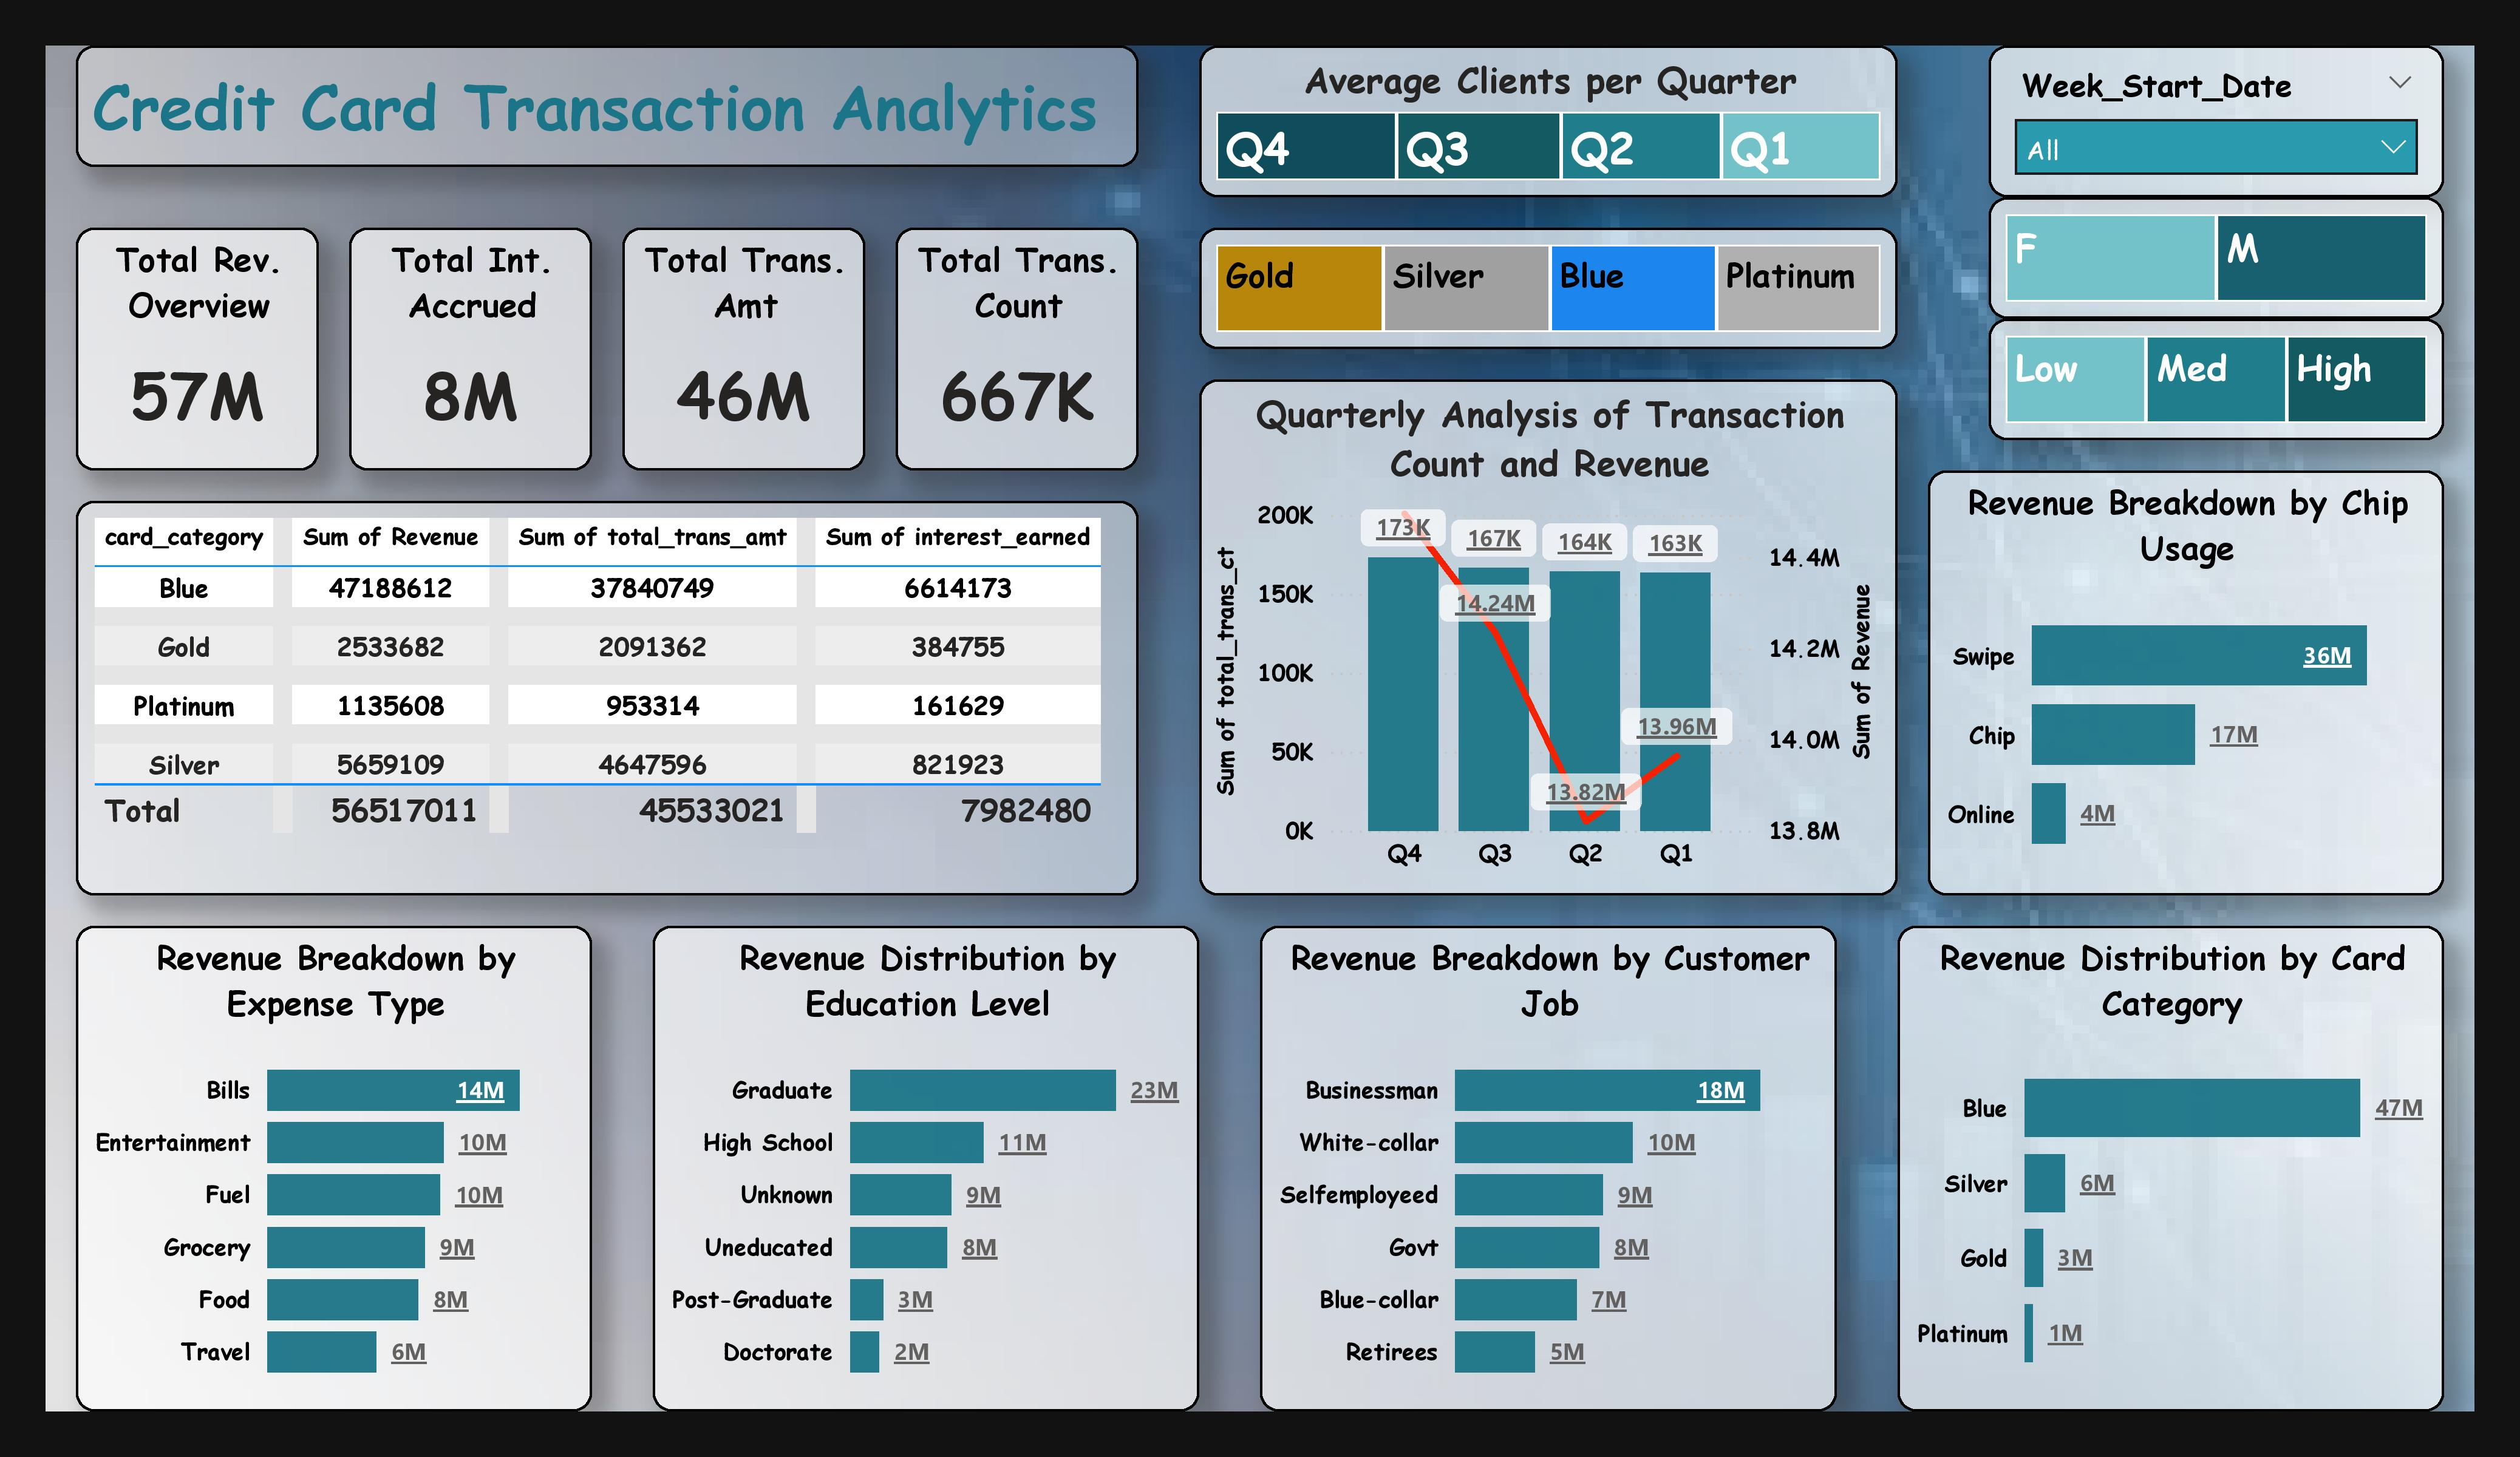

This screenshot's page, from the dashboard's own definition file:
{"tool":"powerbi","page":{"name":"Credit_Card Transaction","canvas":[1280,720],"ordinal":0},"visuals":[{"type":"textbox","box":[16,0,560,64],"z":0},{"type":"lineStackedColumnComboChart","title":"Quarterly Analysis of Transaction Count and Revenue","fields":{"Category":["public cc_detail.qtr"],"Y":["Sum(public cc_detail.total_trans_ct)"],"Y2":["Sum(public cc_detail.Revenue)"]},"box":[608,176,368,272],"z":1000},{"type":"barChart","title":"Revenue Breakdown by Expense Type","fields":{"Y":["Sum(public cc_detail.Revenue)"],"Category":["public cc_detail.exp_type"]},"box":[16,464,272,256],"z":2000},{"type":"barChart","title":"Revenue Distribution by Education Level","fields":{"Y":["Sum(public cc_detail.Revenue)"],"Category":["public cust_detail.education_level"]},"box":[320,464,288,256],"z":3000},{"type":"barChart","title":"Revenue Breakdown by Customer Job","fields":{"Y":["Sum(public cc_detail.Revenue)"],"Category":["public cust_detail.customer_job"]},"box":[640,464,304,256],"z":4000},{"type":"barChart","title":"Revenue Distribution by Card Category","fields":{"Y":["Sum(public cc_detail.Revenue)"],"Category":["public cc_detail.card_category"]},"box":[976,464,288,256],"z":5000},{"type":"barChart","title":"Revenue Breakdown by Chip Usage","fields":{"Y":["Sum(public cc_detail.Revenue)"],"Category":["public cc_detail.use_chip"]},"box":[992,224,272,224],"z":6000},{"type":"card","title":"Total Rev. Overview","fields":{"Values":["Sum(public cc_detail.Revenue)","select"]},"box":[16,96,128,128],"z":7000},{"type":"card","title":"Total Int. Accrued","fields":{"Values":["Sum(public cc_detail.interest_earned)"]},"box":[160,96,128,128],"z":8000},{"type":"card","title":"Total Trans. Amt","fields":{"Values":["Sum(public cc_detail.total_trans_amt)"]},"box":[304,96,128,128],"z":9000},{"type":"card","title":"Total Trans. Count","fields":{"Values":["Sum(public cc_detail.total_trans_ct)"]},"box":[448,96,128,128],"z":10000},{"type":"slicer","fields":{"Values":["public cc_detail.week_start_date"]},"box":[1024,0,240,80],"z":11000},{"type":"treemap","title":"Average Clients per Quarter","fields":{"Group":["public cc_detail.qtr"],"Values":["Avg(public cc_detail.client_num)"]},"box":[608,0,368,80],"z":12000},{"type":"treemap","fields":{"Group":["public cust_detail.gender"],"Values":["Avg(public cc_detail.client_num)"]},"box":[1024,80,240,64],"z":13000},{"type":"treemap","fields":{"Values":["Avg(public cc_detail.client_num)"],"Group":["public cc_detail.card_category"]},"box":[608,96,368,64],"z":14000},{"type":"treemap","fields":{"Values":["Avg(public cc_detail.client_num)"],"Group":["public cust_detail.IncomeGroup"]},"box":[1024,144,240,64],"z":15000},{"type":"tableEx","fields":{"Values":["public cc_detail.card_category","Sum(public cc_detail.Revenue)","Sum(public cc_detail.total_trans_amt)","Sum(public cc_detail.interest_earned)"]},"box":[16,240,560,208],"z":16000},{"type":"qnaVisual","box":[576,240,150,208],"z":16001}]}

Visuals, with their boxes on the page's 1280x720 design canvas (x1, y1, x2, y2). These are canvas units, not pixel positions in the 2520x1457 screenshot, which may show the page scaled, cropped or inside an application window:
textbox: 16:0:576:64
"Quarterly Analysis of Transaction Count and Revenue" lineStackedColumnComboChart: 608:176:976:448
"Revenue Breakdown by Expense Type" barChart: 16:464:288:720
"Revenue Distribution by Education Level" barChart: 320:464:608:720
"Revenue Breakdown by Customer Job" barChart: 640:464:944:720
"Revenue Distribution by Card Category" barChart: 976:464:1264:720
"Revenue Breakdown by Chip Usage" barChart: 992:224:1264:448
"Total Rev. Overview" card: 16:96:144:224
"Total Int. Accrued" card: 160:96:288:224
"Total Trans. Amt" card: 304:96:432:224
"Total Trans. Count" card: 448:96:576:224
slicer - public cc_detail.week_start_date: 1024:0:1264:80
"Average Clients per Quarter" treemap: 608:0:976:80
treemap - public cust_detail.gender x Avg(public cc_detail.client_num): 1024:80:1264:144
treemap - Avg(public cc_detail.client_num) x public cc_detail.card_category: 608:96:976:160
treemap - Avg(public cc_detail.client_num) x public cust_detail.IncomeGroup: 1024:144:1264:208
tableEx - public cc_detail.card_category x Sum(public cc_detail.Revenue): 16:240:576:448
qnaVisual: 576:240:726:448
